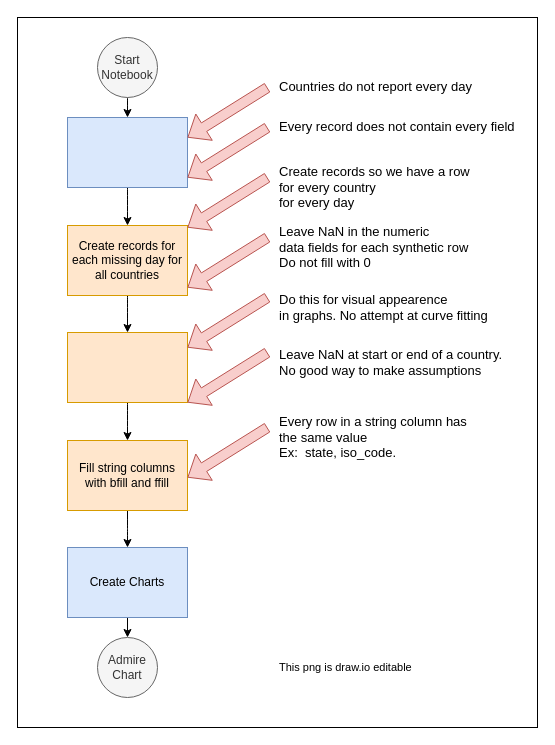
Some shapes in this 555 by 745 pixel diagram are drawn without their labels. The shapes that lost their labels are listed below. From the top down, each one's centre as x and y in pixels, then its label:
(x=127, y=152): Load CSV into notebook
(x=127, y=367): Interpolate data values across rows on per country basis
